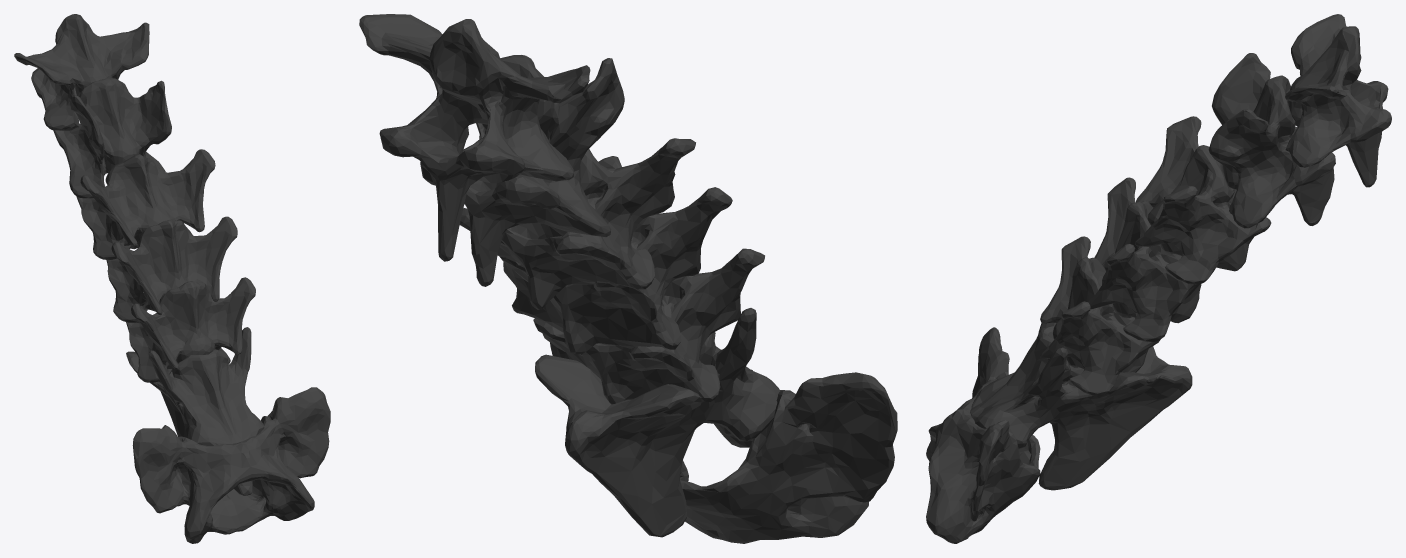
Rendered from b_cervical_vertebra.glb.
3 views of the same model, side by side, from view 1: azimuth 30°, elevation 25°; view 2: azimuth 150°, elevation 25°; view 3: azimuth 270°, elevation 25° (orthographic). The views are drawn at different scales.
Visible parts, largest first — view 1: b_cervical_vertebra; view 2: b_cervical_vertebra; view 3: b_cervical_vertebra.
Part boxes in pixels (x1=…): b_cervical_vertebra: x1=14, y1=14, x2=330, y2=543; b_cervical_vertebra: x1=359, y1=14, x2=897, y2=543; b_cervical_vertebra: x1=926, y1=14, x2=1391, y2=543.
Size of the model in its own units: 0.00226 by 0.00447 by 0.00384.
Materials: 1 (1 with a texture image).
